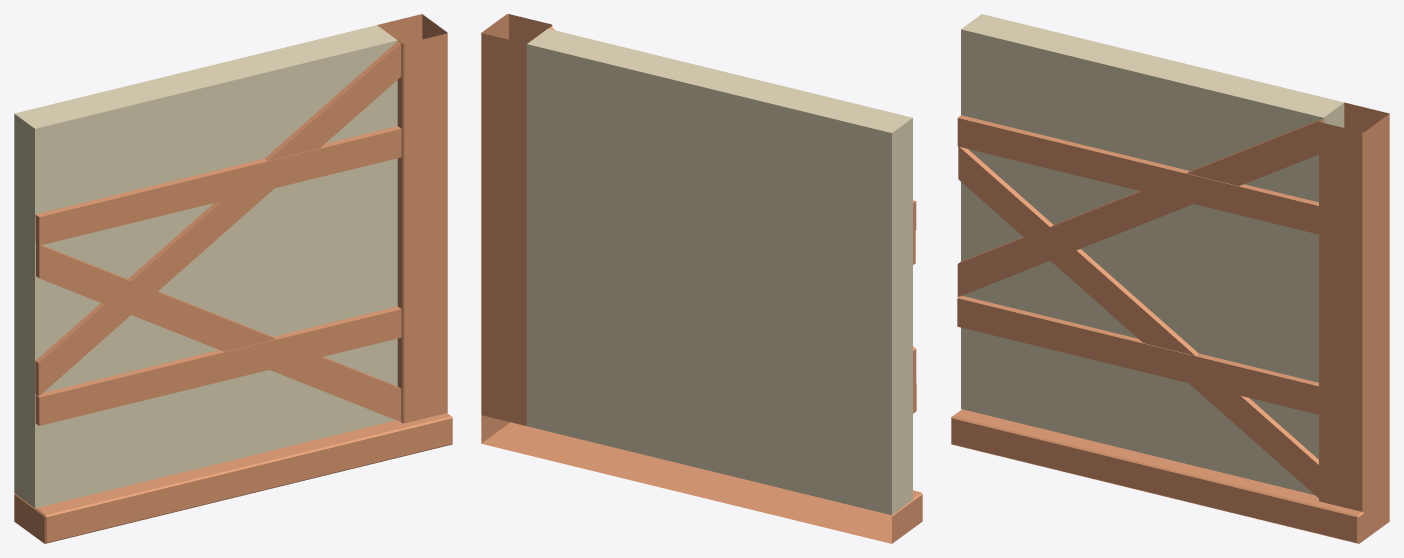
Rendered from Wall5_low.fbx.
3 renders of one model, left to right at view 1: azimuth 30°, elevation 25°; view 2: azimuth 150°, elevation 25°; view 3: azimuth 330°, elevation 25°, orthographic.
Visible parts, largest first — view 1: Wall5_low, Wall5_woodframe1_low, Wall5_woodplank1_low; view 2: Wall5_low, Wall5_woodplank1_low; view 3: Wall5_low, Wall5_woodframe1_low, Wall5_woodplank1_low.
Part boxes in pixels (bbox=[...]): Wall5_low: bbox=[14, 25, 397, 508]; Wall5_woodframe1_low: bbox=[35, 41, 401, 425]; Wall5_woodplank1_low: bbox=[14, 14, 452, 543]; Wall5_low: bbox=[526, 28, 912, 515]; Wall5_woodplank1_low: bbox=[481, 14, 922, 543]; Wall5_low: bbox=[961, 14, 1344, 495]; Wall5_woodframe1_low: bbox=[957, 115, 1323, 498]; Wall5_woodplank1_low: bbox=[951, 102, 1389, 543].
Bounding box in the file's own units: 450 × 430 × 60.
